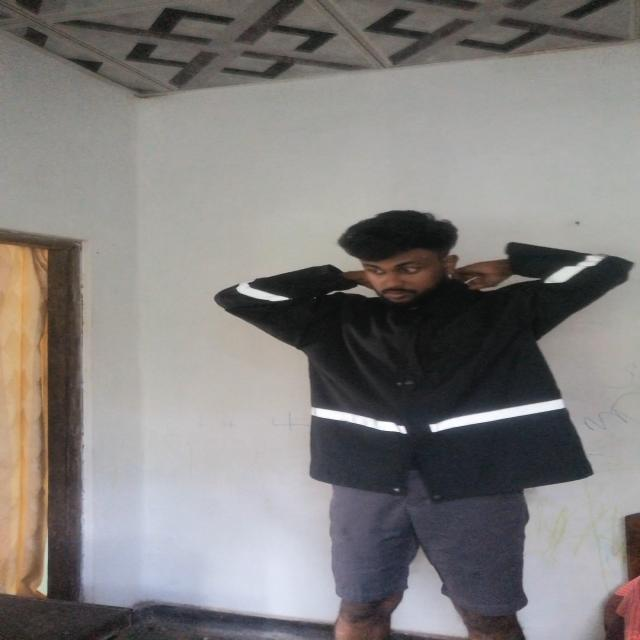Jacket_Wearer: (247, 259, 640, 504)
